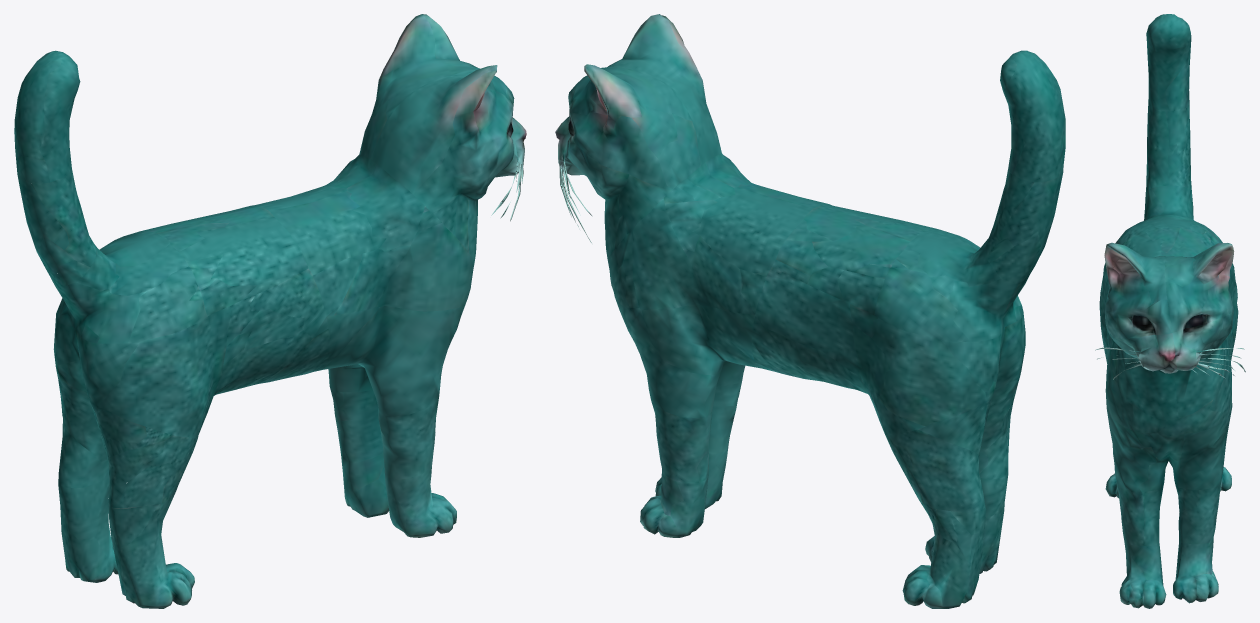
File: MOONRESCUE-lo.glb
The picture shows the model from 3 angles, left to right: view 1: azimuth 30°, elevation 25°; view 2: azimuth 150°, elevation 25°; view 3: azimuth 270°, elevation 25°; orthographic projection. The views are drawn at different scales.
Parts seen in each view (by area): view 1: tripo_node_1f22e46f-2367-4ee2-87f3-4d8f3ca14bb6; view 2: tripo_node_1f22e46f-2367-4ee2-87f3-4d8f3ca14bb6; view 3: tripo_node_1f22e46f-2367-4ee2-87f3-4d8f3ca14bb6.
Part boxes in pixels (box(x1,y1,x2,y2)): tripo_node_1f22e46f-2367-4ee2-87f3-4d8f3ca14bb6: box(14, 14, 526, 608); tripo_node_1f22e46f-2367-4ee2-87f3-4d8f3ca14bb6: box(555, 14, 1065, 608); tripo_node_1f22e46f-2367-4ee2-87f3-4d8f3ca14bb6: box(1095, 14, 1245, 608).
Size of the model in its own units: 0.9636 by 0.9996 by 0.3074.
Materials: 1 (1 with a texture image).
